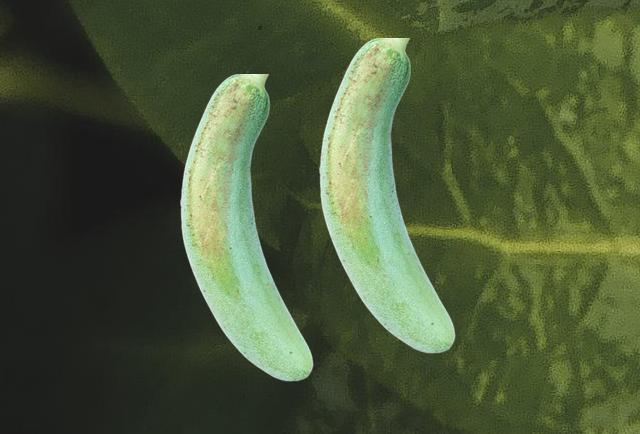cucumber: (319, 38, 454, 352), (180, 74, 312, 380)
